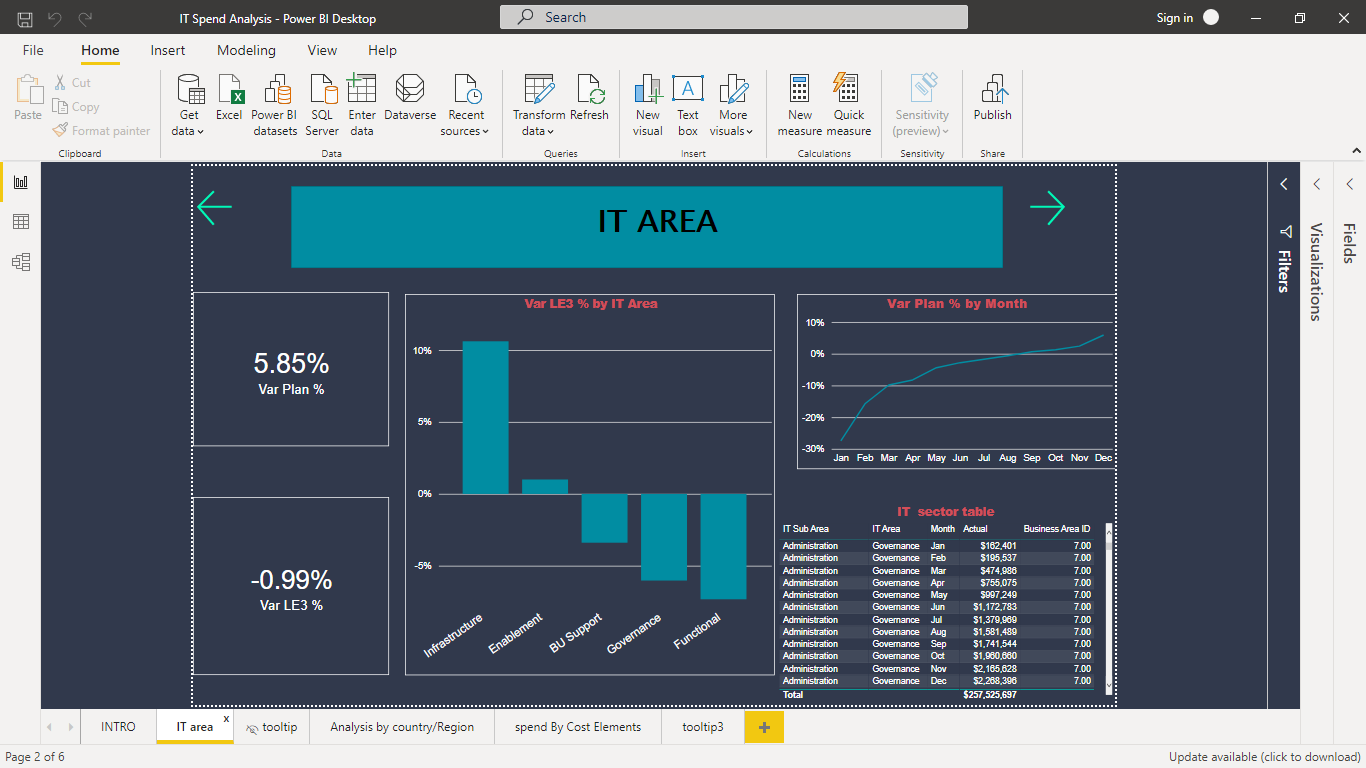

What the dashboard file says about the page in this screenshot:
{"tool":"powerbi","page":{"name":"IT area","canvas":[1280,720],"ordinal":1},"visuals":[{"type":"columnChart","fields":{"Category":["IT Area.IT Area"],"Y":["Fact.Var LE3 %"]},"box":[294.1,149.8,513.3,528.6],"z":0},{"type":"card","fields":{"Values":["Fact.Var Plan %"]},"box":[0,147.1,271.9,213.6],"z":1000},{"type":"lineChart","fields":{"Y":["Fact.Var Plan %"],"Category":["Date.Month"]},"box":[837.9,149.8,442.5,242.8],"z":2000},{"type":"tableEx","title":"IT  sector table","fields":{"Values":["IT Area.IT Sub Area","IT Area.IT Area","Date.Month","Fact.Actual","Fact.Business Area ID"]},"box":[807.4,439.8,473.1,280.2],"z":3000},{"type":"actionButton","box":[1154.2,0,126.2,61],"z":4000},{"type":"actionButton","box":[0,0,147.1,61],"z":5000},{"type":"card","fields":{"Values":["Fact.Var LE3 %"]},"box":[0,431.4,271.9,246.9],"z":6000},{"type":"shape","box":[136,0,987.7,113.8],"z":7000},{"type":"textbox","box":[228.9,12.5,831,86],"z":8000}]}

Visuals, with their boxes on the page's 1280x720 design canvas (x1, y1, x2, y2). These are canvas units, not pixel positions in the 1366x768 screenshot, which may show the page scaled, cropped or inside an application window:
columnChart - IT Area.IT Area x Fact.Var LE3 %: (left=294, top=150, right=807, bottom=678)
card - Fact.Var Plan %: (left=0, top=147, right=272, bottom=361)
lineChart - Fact.Var Plan % x Date.Month: (left=838, top=150, right=1280, bottom=393)
"IT  sector table" tableEx: (left=807, top=440, right=1280, bottom=720)
actionButton: (left=1154, top=0, right=1280, bottom=61)
actionButton: (left=0, top=0, right=147, bottom=61)
card - Fact.Var LE3 %: (left=0, top=431, right=272, bottom=678)
shape: (left=136, top=0, right=1124, bottom=114)
textbox: (left=229, top=12, right=1060, bottom=98)
